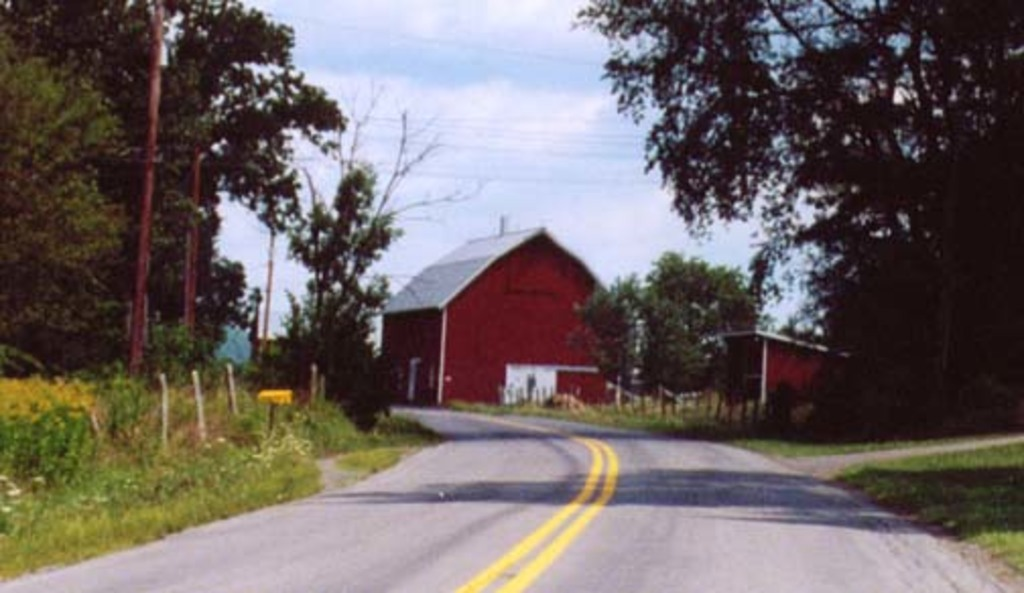Tree: (568, 0, 1021, 424), (2, 0, 288, 379), (170, 58, 343, 365)
